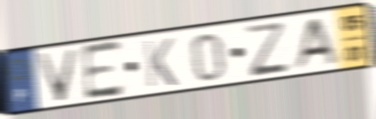0: (187, 31, 229, 83)
A: (290, 15, 341, 73)
E: (79, 38, 126, 103)
K: (141, 36, 180, 90)
V: (34, 47, 82, 105)
Z: (241, 20, 292, 80)
